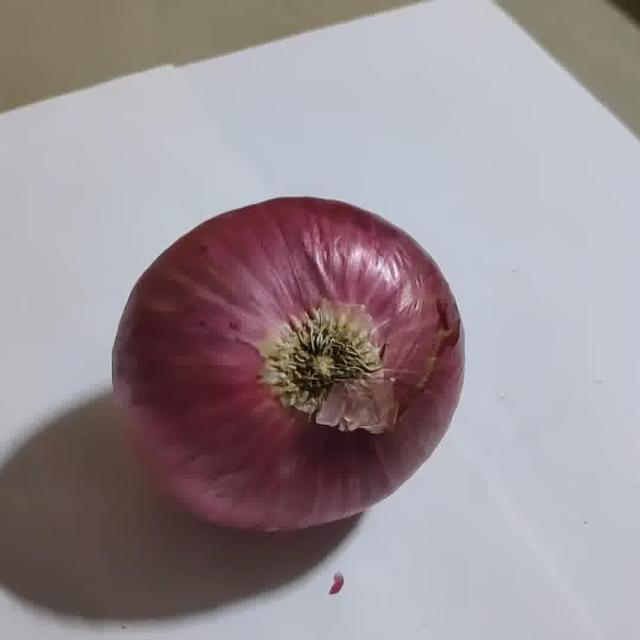Onion: (113, 197, 464, 532)
